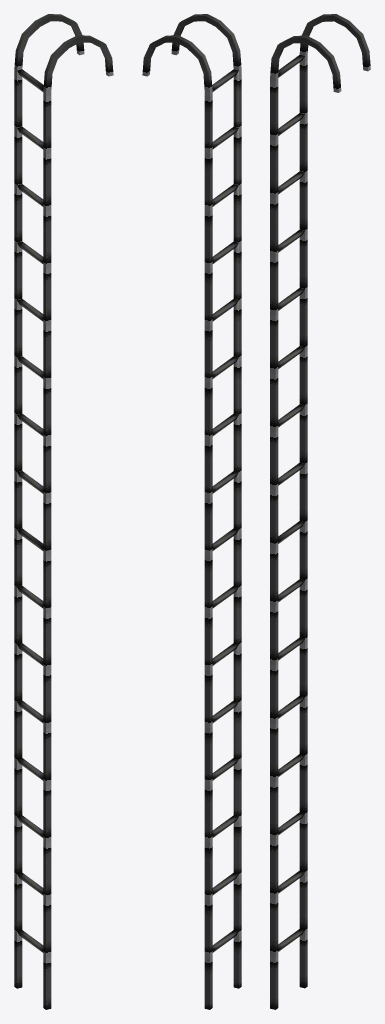
The model's file is Ladder_8M.glb.
The picture shows the model from 3 angles, left to right: view 1: azimuth 30°, elevation 25°; view 2: azimuth 150°, elevation 25°; view 3: azimuth 330°, elevation 25°; orthographic projection.
Parts seen in each view (by area): view 1: LADDER_8M; view 2: LADDER_8M; view 3: LADDER_8M.
Part boxes in pixels (<box>): LADDER_8M: <box>14,14,113,1009</box>; LADDER_8M: <box>142,14,241,1009</box>; LADDER_8M: <box>270,14,370,1009</box>.
Size of the model in its own units: 0.616 by 8.4 by 0.5.
Materials: 1 (1 with a texture image).
